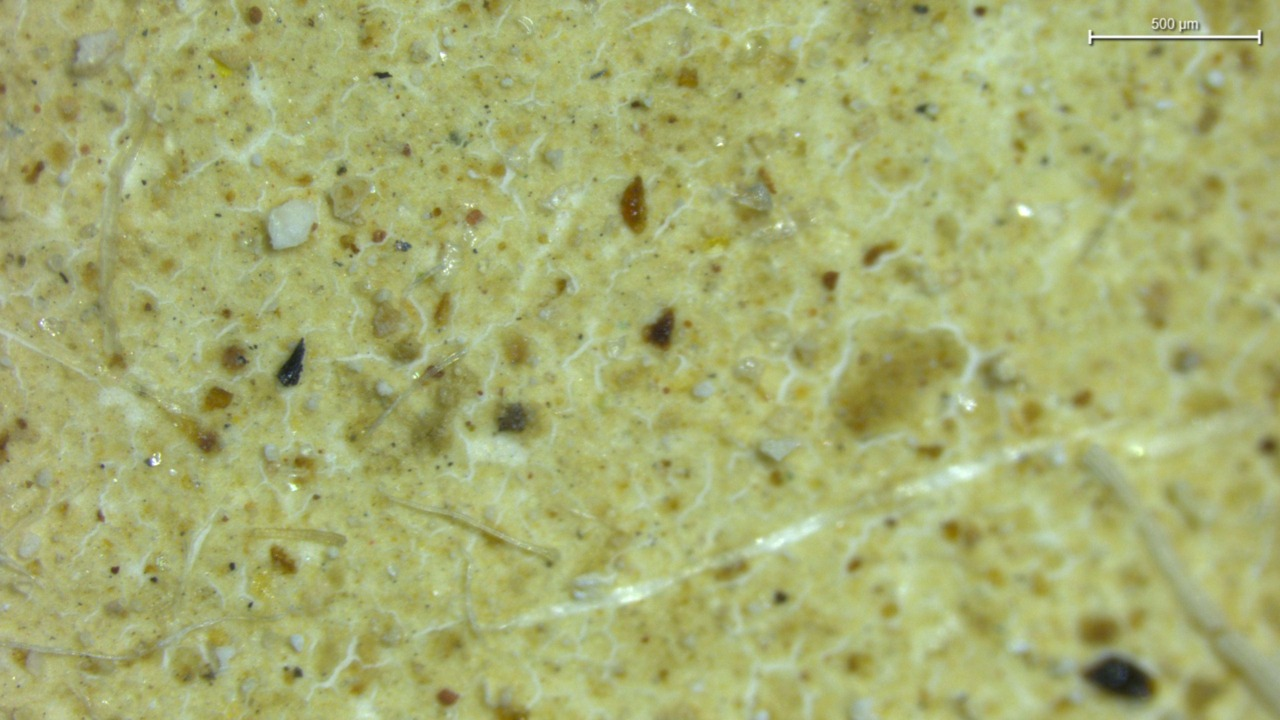microplastic_fragment: (267, 197, 318, 252), (759, 438, 801, 461)
